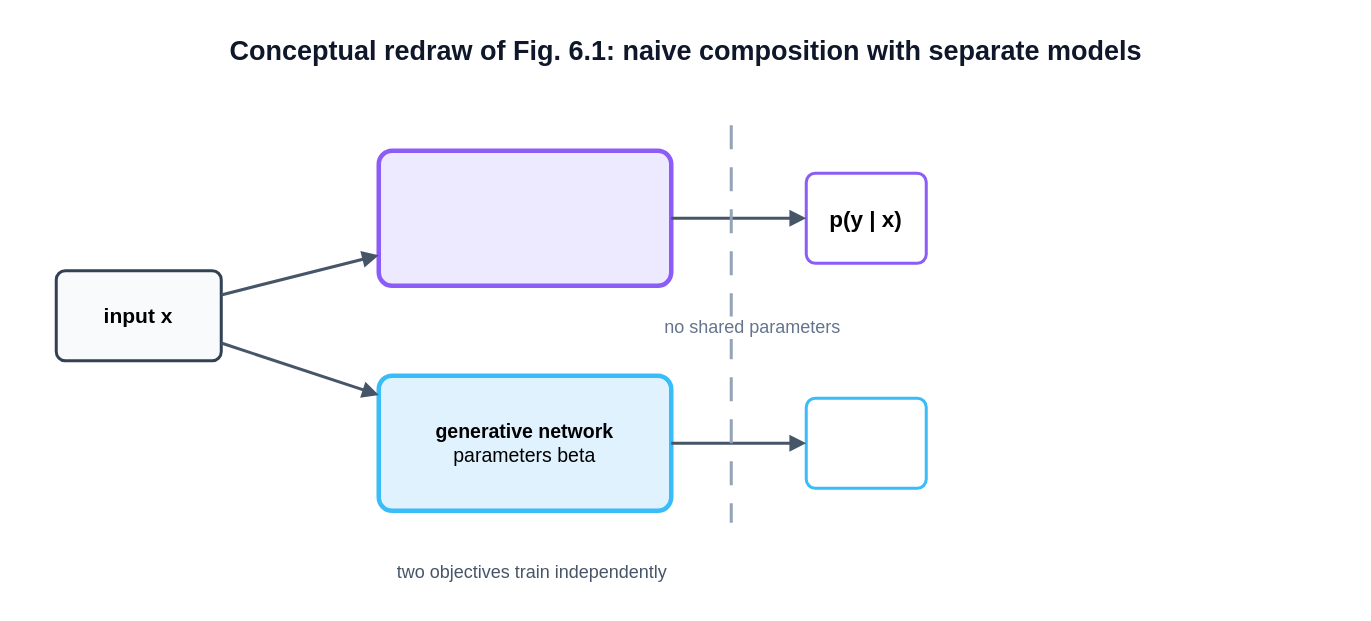
The diagram is 1371 pixels wide and 621 high, and some of its shapes have lost their labels. Here are the shapes that lost their labels. From the top down, the centre of each, then its label:
the point at 524,217: classifier network parameters alpha
the point at 865,442: p(x)
